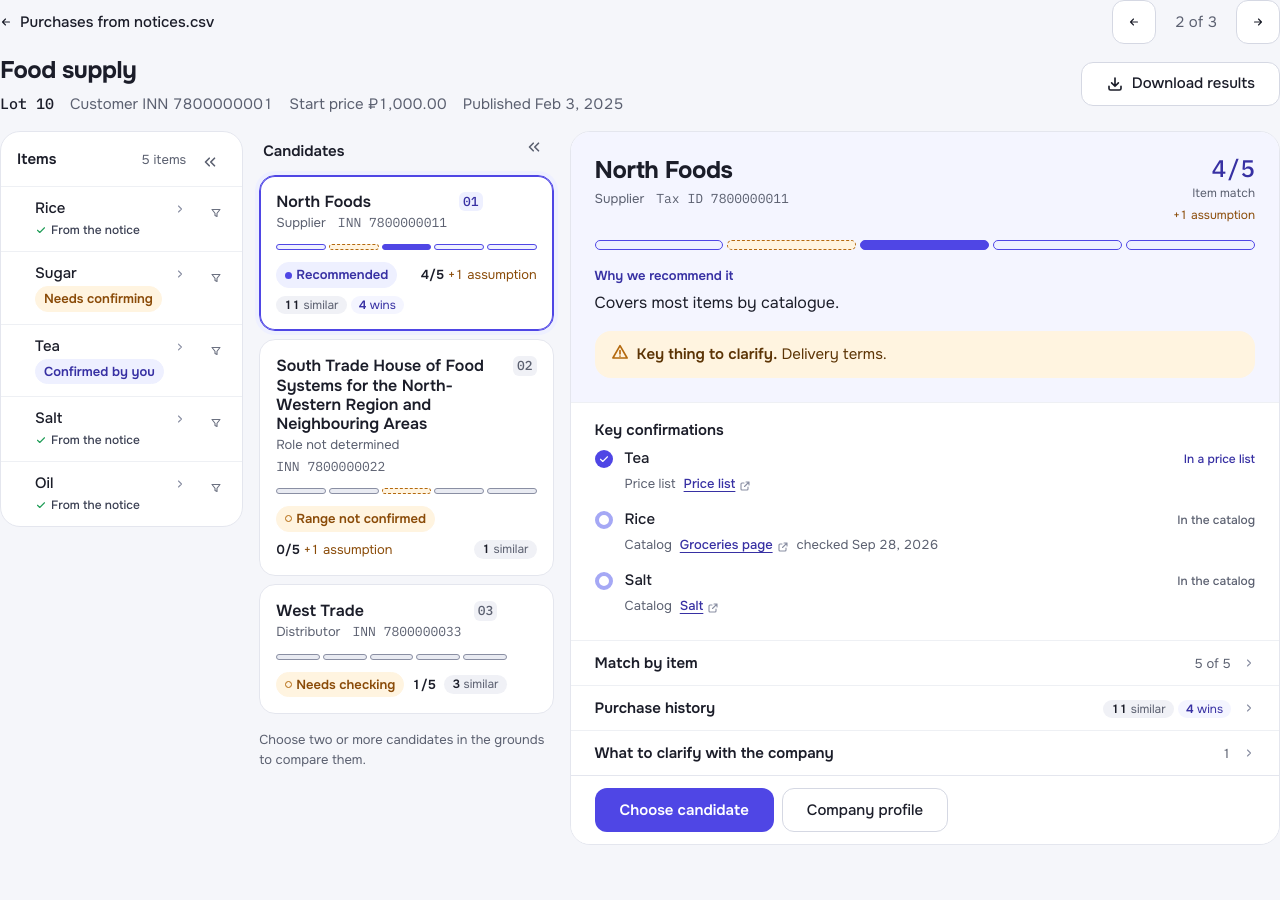
Test: choosing, comparing and the profile › opens the company profile with requisites, contacts and sources
This screenshot has width=1280, height=900.
Expected: the heading "Food supply" is shown, [0,55,136,85]
Click the button "Company profile" at (865, 810), box [782,788,948,832]
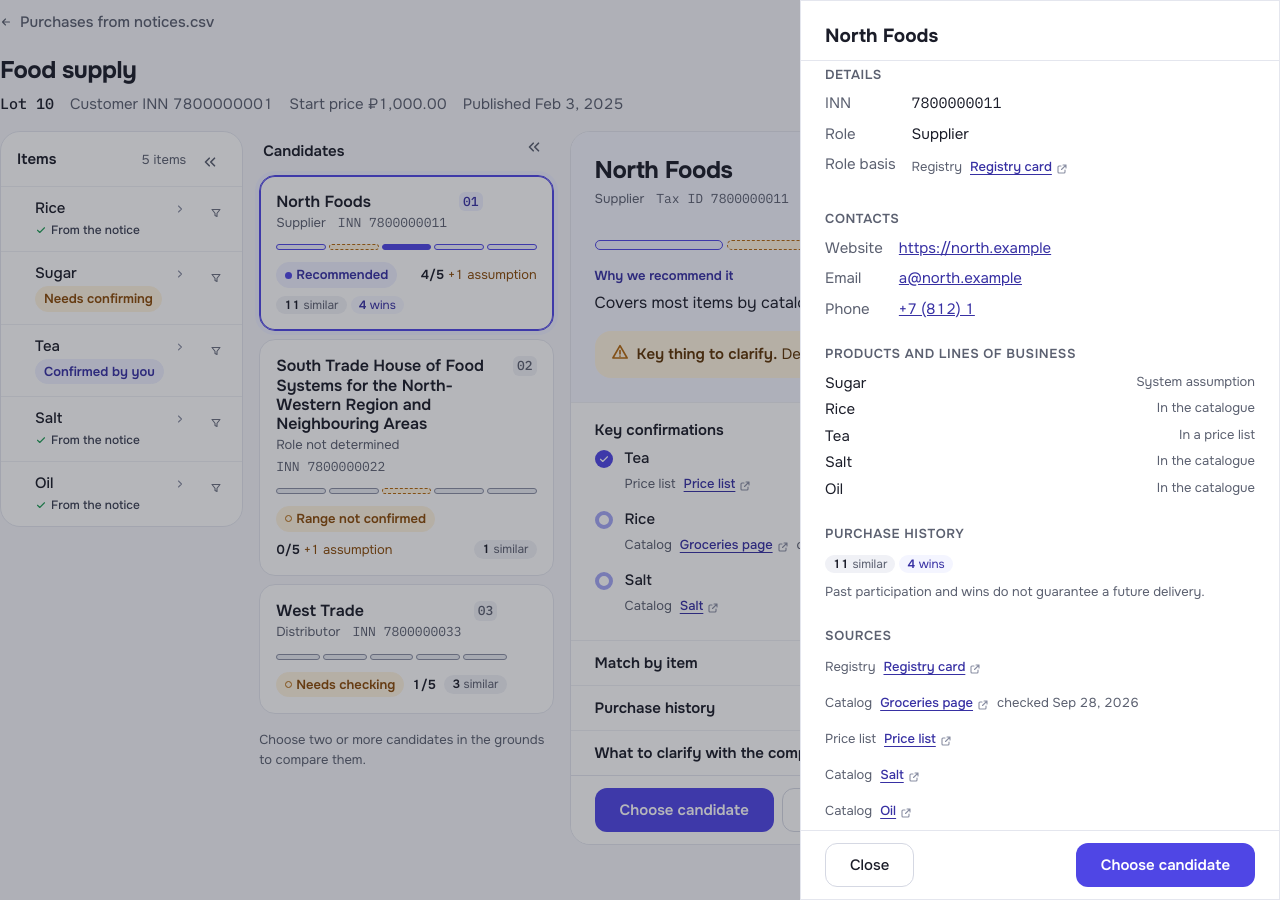
Expected: the number of links "Registry card" is 2, [969,157,1093,175]; [882,657,1007,675]
Expected: the link "Price list" is shown, [883,729,1007,747]
Expected: the dialog "North Foods" shows "11 similar 4 wins", [800,0,1279,899]
